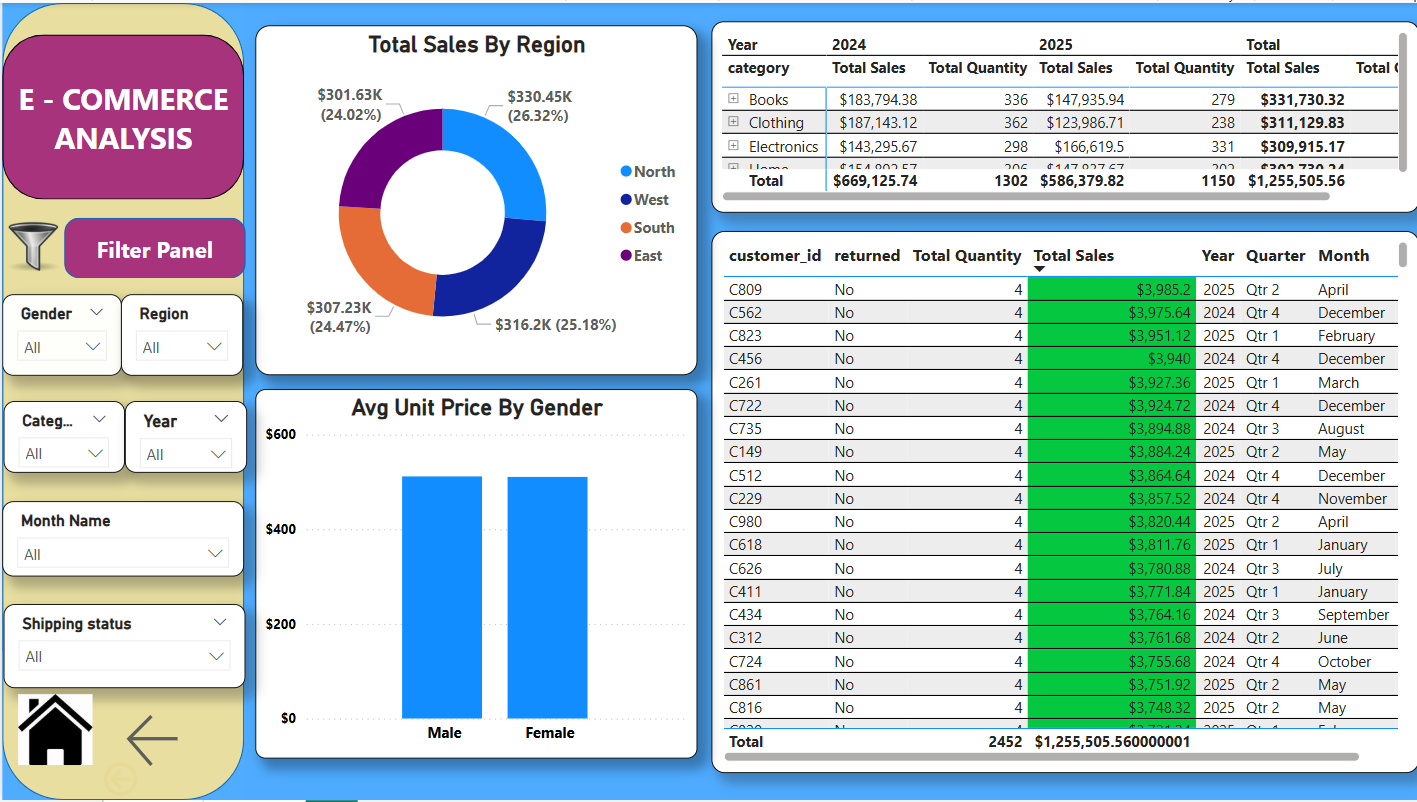

The page's visual inventory and layout, read from the dashboard file:
{"tool":"powerbi","page":{"name":"Page 2","canvas":[1280,720],"ordinal":1},"visuals":[{"type":"pivotTable","fields":{"Rows":["ecommerce_data_1000.category","ecommerce_data_1000.region"],"Columns":["ecommerce_data_1000.Year"],"Values":["ecommerce_data_1000.Total Sales","ecommerce_data_1000.Total Quantity"]},"box":[640.5,16.1,639.3,172.5],"z":0},{"type":"actionButton","box":[87.5,680.6,99.4,40],"z":1000},{"type":"tableEx","fields":{"Values":["ecommerce_data_1000.customer_id","ecommerce_data_1000.returned","ecommerce_data_1000.Total Quantity","ecommerce_data_1000.Total Sales","ecommerce_data_1000.order_date.Variation.Date Hierarchy.Year","ecommerce_data_1000.order_date.Variation.Date Hierarchy.Quarter","ecommerce_data_1000.order_date.Variation.Date Hierarchy.Month","ecommerce_data_1000.order_date.Variation.Date Hierarchy.Day"]},"box":[640.6,206.1,639.1,489.3],"z":2000},{"type":"donutChart","title":"Total Sales By Region","fields":{"Category":["ecommerce_data_1000.region"],"Y":["ecommerce_data_1000.Total Sales"]},"box":[228.4,20.8,398.9,315.9],"z":3000},{"type":"clusteredColumnChart","title":"Avg Unit Price By Gender","fields":{"Category":["ecommerce_data_1000.gender"],"Y":["ecommerce_data_1000.Avg Unit Price"]},"box":[228.4,348.5,398.9,333.6],"z":4000},{"type":"shape","box":[0,0,218.5,719.9],"z":4001},{"type":"slicer","fields":{"Values":["ecommerce_data_1000.gender"]},"box":[0,263.2,108,73.2],"z":4002},{"type":"slicer","fields":{"Values":["ecommerce_data_1000.region"]},"box":[106.8,263.2,110.5,73.2],"z":4003},{"type":"slicer","fields":{"Values":["ecommerce_data_1000.category"]},"box":[1.2,360,109.2,64.5],"z":4004},{"type":"slicer","fields":{"Values":["ecommerce_data_1000.Month Name"]},"box":[0,450.6,218.5,68.3],"z":4005},{"type":"slicer","fields":{"Values":["ecommerce_data_1000.shipping_status"]},"box":[1.2,542.4,218.5,75.7],"z":4006},{"type":"slicer","fields":{"Values":["ecommerce_data_1000.Year"]},"box":[110.5,360,110.5,64.5],"z":4008},{"type":"shape","box":[0,28.5,218.5,149],"z":4010},{"type":"image","box":[0,188.7,55.9,64.5],"z":4011},{"type":"shape","box":[55.9,193.6,163.8,54.6],"z":4012},{"type":"image","box":[9.9,618.2,77,77],"z":4013},{"type":"actionButton","box":[106.8,636.8,70.8,58.3],"z":4014}]}

Visuals, with their boxes in screenshot pixels (x1, y1, x2, y2), scaled from the page's 1280x720 canvas onto the 1417x802 screenshot:
pivotTable - ecommerce_data_1000.category x ecommerce_data_1000.region: x1=709 y1=18 x2=1416 y2=210
actionButton: x1=97 y1=758 x2=207 y2=801
tableEx - ecommerce_data_1000.customer_id x ecommerce_data_1000.returned: x1=709 y1=230 x2=1416 y2=775
"Total Sales By Region" donutChart: x1=253 y1=23 x2=694 y2=375
"Avg Unit Price By Gender" clusteredColumnChart: x1=253 y1=388 x2=694 y2=760
shape: x1=0 y1=0 x2=242 y2=801
slicer - ecommerce_data_1000.gender: x1=0 y1=293 x2=120 y2=375
slicer - ecommerce_data_1000.region: x1=118 y1=293 x2=241 y2=375
slicer - ecommerce_data_1000.category: x1=1 y1=401 x2=122 y2=473
slicer - ecommerce_data_1000.Month Name: x1=0 y1=502 x2=242 y2=578
slicer - ecommerce_data_1000.shipping_status: x1=1 y1=604 x2=243 y2=688
slicer - ecommerce_data_1000.Year: x1=122 y1=401 x2=245 y2=473
shape: x1=0 y1=32 x2=242 y2=198
image: x1=0 y1=210 x2=62 y2=282
shape: x1=62 y1=216 x2=243 y2=276
image: x1=11 y1=689 x2=96 y2=774
actionButton: x1=118 y1=709 x2=197 y2=774
